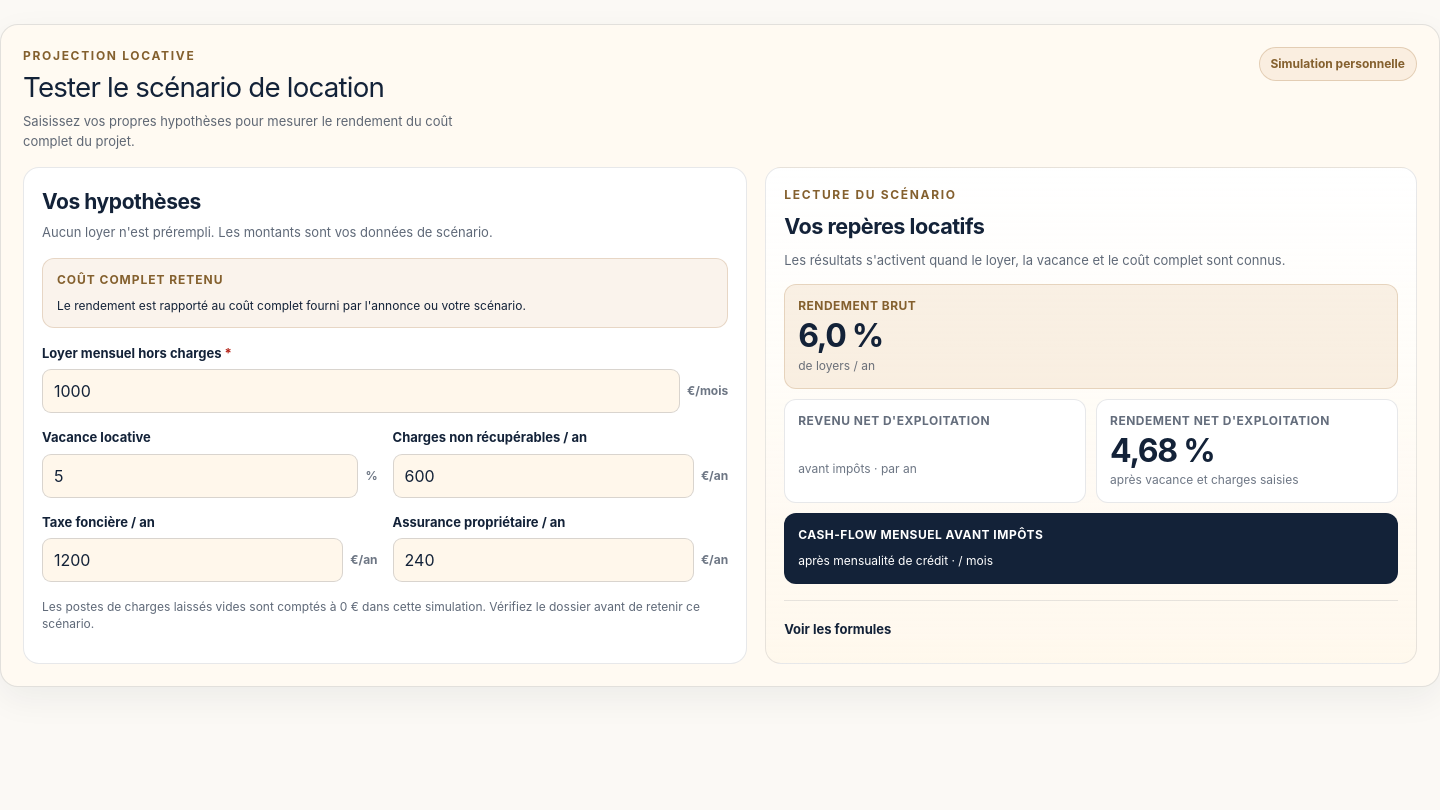
Test: ListingRental › shows the formula and passes accessibility checks
Expected: the text "Cash-flow mensuel avant impôts" is shown, [798,527,1043,542]
What coordinates should you click on to do the following:
click the heading "Voir les formules"
I would click on:
 (838, 628)
Its box is [784,620,891,636].
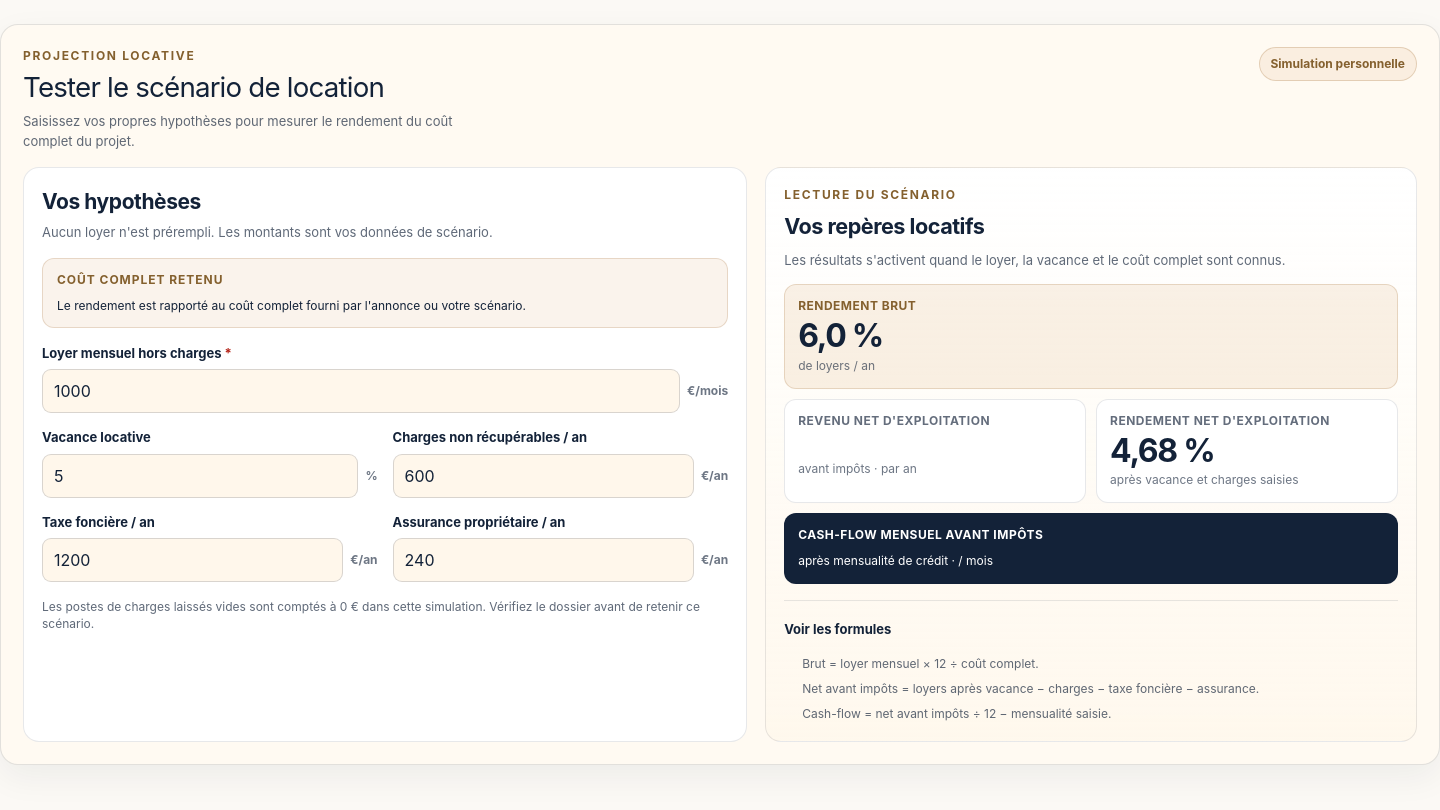
Expected: the list item "Brut = loyer mensuel × 12 ÷ coût complet." is shown, [802,656,1039,671]
